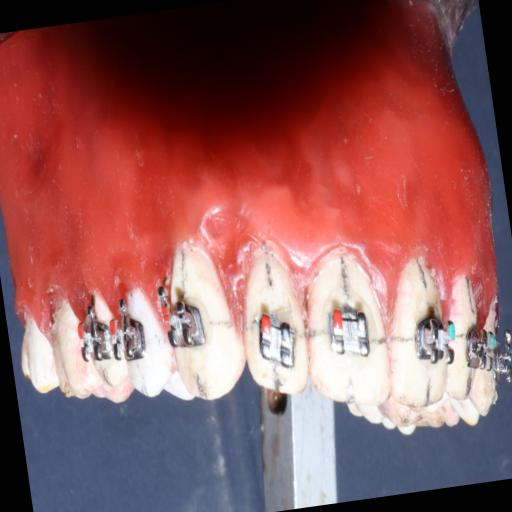incorrect_brace: (232, 242, 313, 404), (322, 293, 376, 368), (252, 303, 303, 376)
